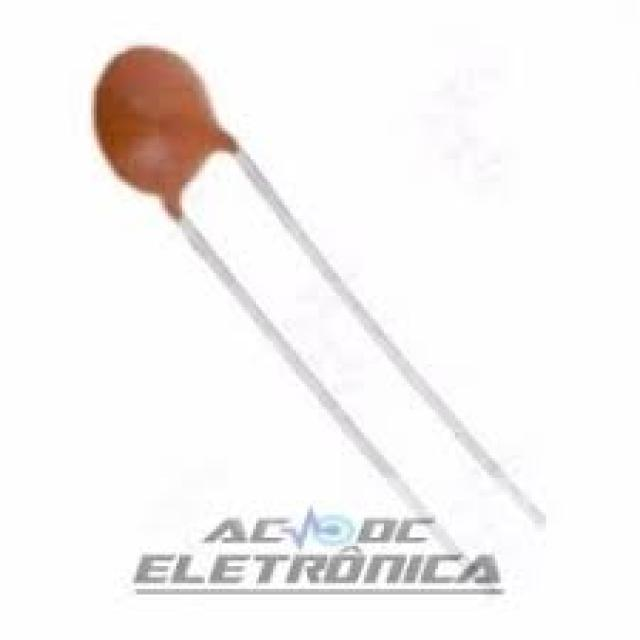Resistor: (94, 46, 239, 219)
